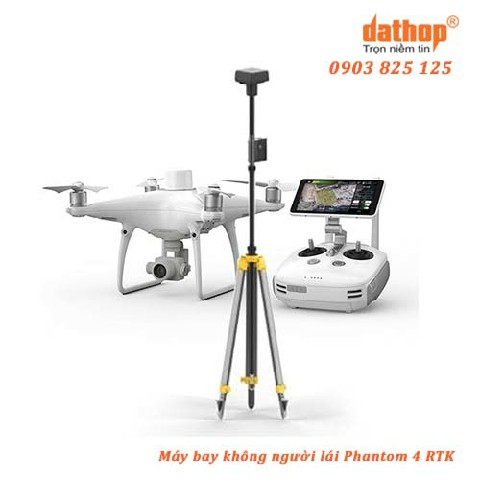maybay_khongnguoilai: (37, 172, 293, 308)
